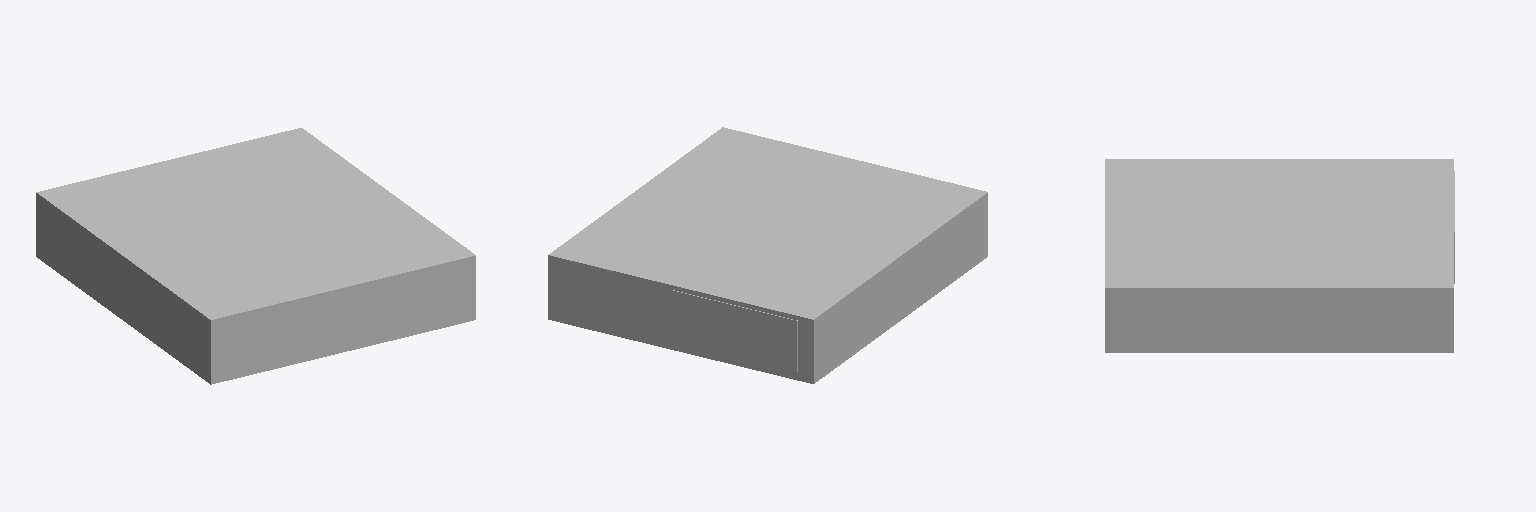
The model's file is Room1HitboxData(Orig).obj.
The picture shows the model from 3 angles: view 1: azimuth 30°, elevation 25°; view 2: azimuth 150°, elevation 25°; view 3: azimuth 270°, elevation 25°; orthographic projection.
Parts seen in each view (by area): view 1: Big_Cube.001; view 2: Big_Cube.001, Cube.020_Cube.023; view 3: Big_Cube.001.
Boxes of the visible parts, x1,y1,x2,y2 form: Big_Cube.001: [36, 128, 475, 384]; Big_Cube.001: [548, 127, 987, 383]; Cube.020_Cube.023: [675, 291, 797, 371]; Big_Cube.001: [1105, 159, 1453, 352].
Size of the model in its own units: 86 by 20 by 98.28.